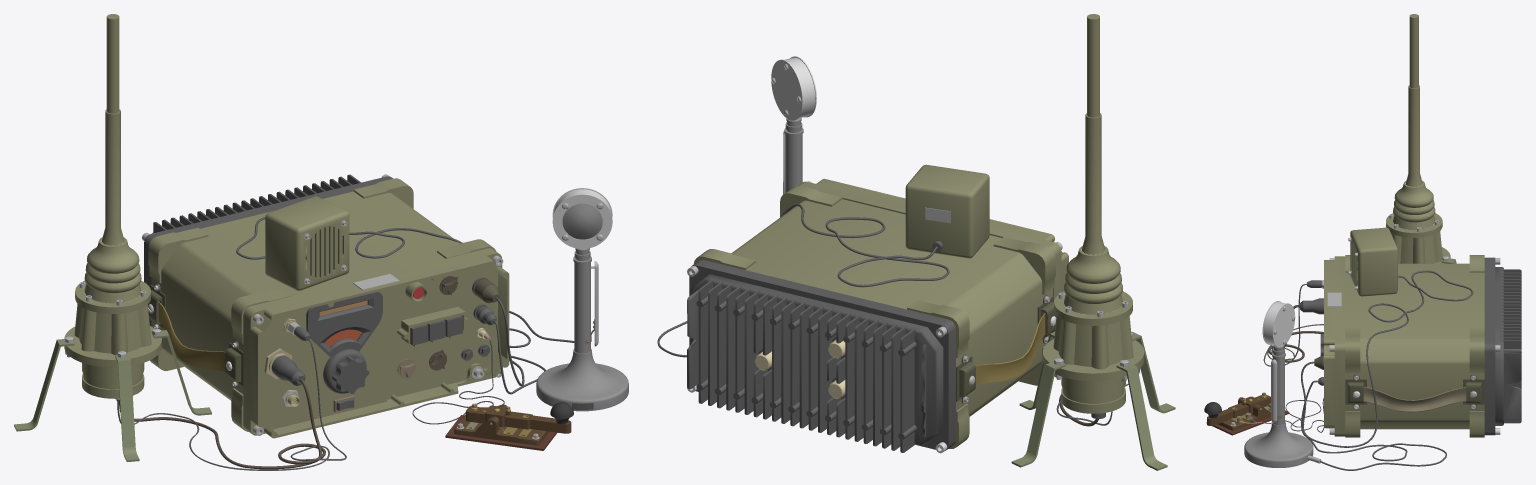
Rendered from parts.gltf.
The picture shows the model from 3 angles, left to right: view 1: azimuth 30°, elevation 25°; view 2: azimuth 150°, elevation 25°; view 3: azimuth 270°, elevation 25°; orthographic projection. The views are drawn at different scales.
Parts seen in each view (by area): view 1: vintage_radio_transceiver, vintage_radio_transceiver_antenna, vintage_radio_transceiver_microphone, vintage_radio_transceiver_speaker, vintage_radio_transceiver_cables, vintage_radio_transceiver_morse_key_base, vintage_radio_transceiver_morse_key_arm, vintage_radio_transceiver_dial, vintage_radio_transceiver_antenna_plug_a; view 2: vintage_radio_transceiver, vintage_radio_transceiver_antenna, vintage_radio_transceiver_speaker, vintage_radio_transceiver_microphone, vintage_radio_transceiver_cables; view 3: vintage_radio_transceiver, vintage_radio_transceiver_antenna, vintage_radio_transceiver_microphone, vintage_radio_transceiver_cables, vintage_radio_transceiver_speaker, vintage_radio_transceiver_morse_key_arm, vintage_radio_transceiver_morse_key_base.
Part boxes in pixels (bbox=[...]): vintage_radio_transceiver: bbox=[142, 174, 509, 438]; vintage_radio_transceiver_antenna: bbox=[14, 14, 211, 461]; vintage_radio_transceiver_microphone: bbox=[536, 188, 628, 411]; vintage_radio_transceiver_speaker: bbox=[265, 196, 349, 290]; vintage_radio_transceiver_cables: bbox=[117, 217, 574, 470]; vintage_radio_transceiver_morse_key_base: bbox=[445, 404, 557, 450]; vintage_radio_transceiver_morse_key_arm: bbox=[466, 402, 573, 433]; vintage_radio_transceiver_dial: bbox=[323, 329, 369, 393]; vintage_radio_transceiver_antenna_plug_a: bbox=[271, 355, 305, 385]; vintage_radio_transceiver: bbox=[687, 178, 1068, 453]; vintage_radio_transceiver_antenna: bbox=[1011, 14, 1175, 470]; vintage_radio_transceiver_speaker: bbox=[905, 164, 989, 258]; vintage_radio_transceiver_microphone: bbox=[771, 56, 816, 194]; vintage_radio_transceiver_cables: bbox=[657, 204, 1139, 426]; vintage_radio_transceiver: bbox=[1324, 255, 1521, 437]; vintage_radio_transceiver_antenna: bbox=[1386, 14, 1456, 263]; vintage_radio_transceiver_microphone: bbox=[1244, 301, 1321, 467]; vintage_radio_transceiver_cables: bbox=[1261, 270, 1473, 470]; vintage_radio_transceiver_speaker: bbox=[1348, 227, 1397, 296]; vintage_radio_transceiver_morse_key_arm: bbox=[1204, 392, 1270, 425]; vintage_radio_transceiver_morse_key_base: bbox=[1206, 397, 1289, 435].
Bounding box in the file's own units: 0.574 × 0.4344 × 0.4131.
